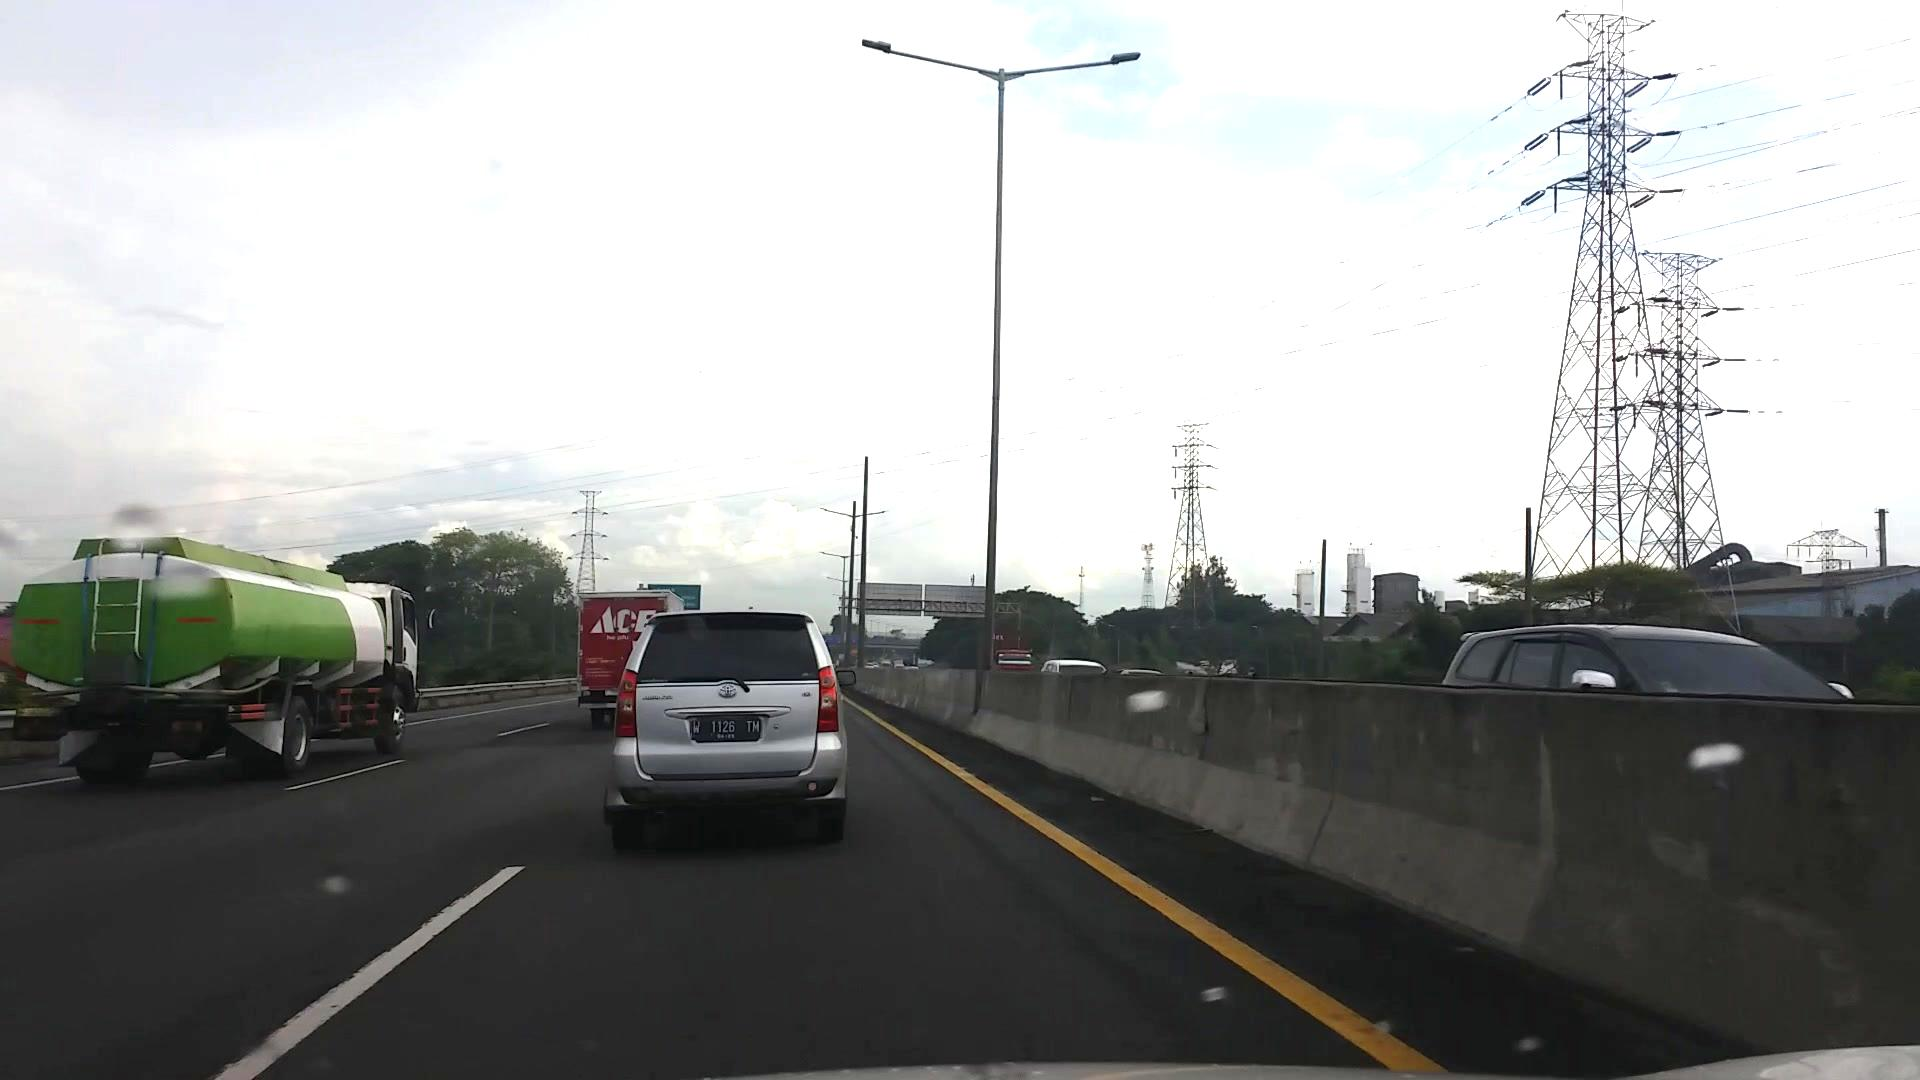plate_positive: (690, 716, 761, 741)
